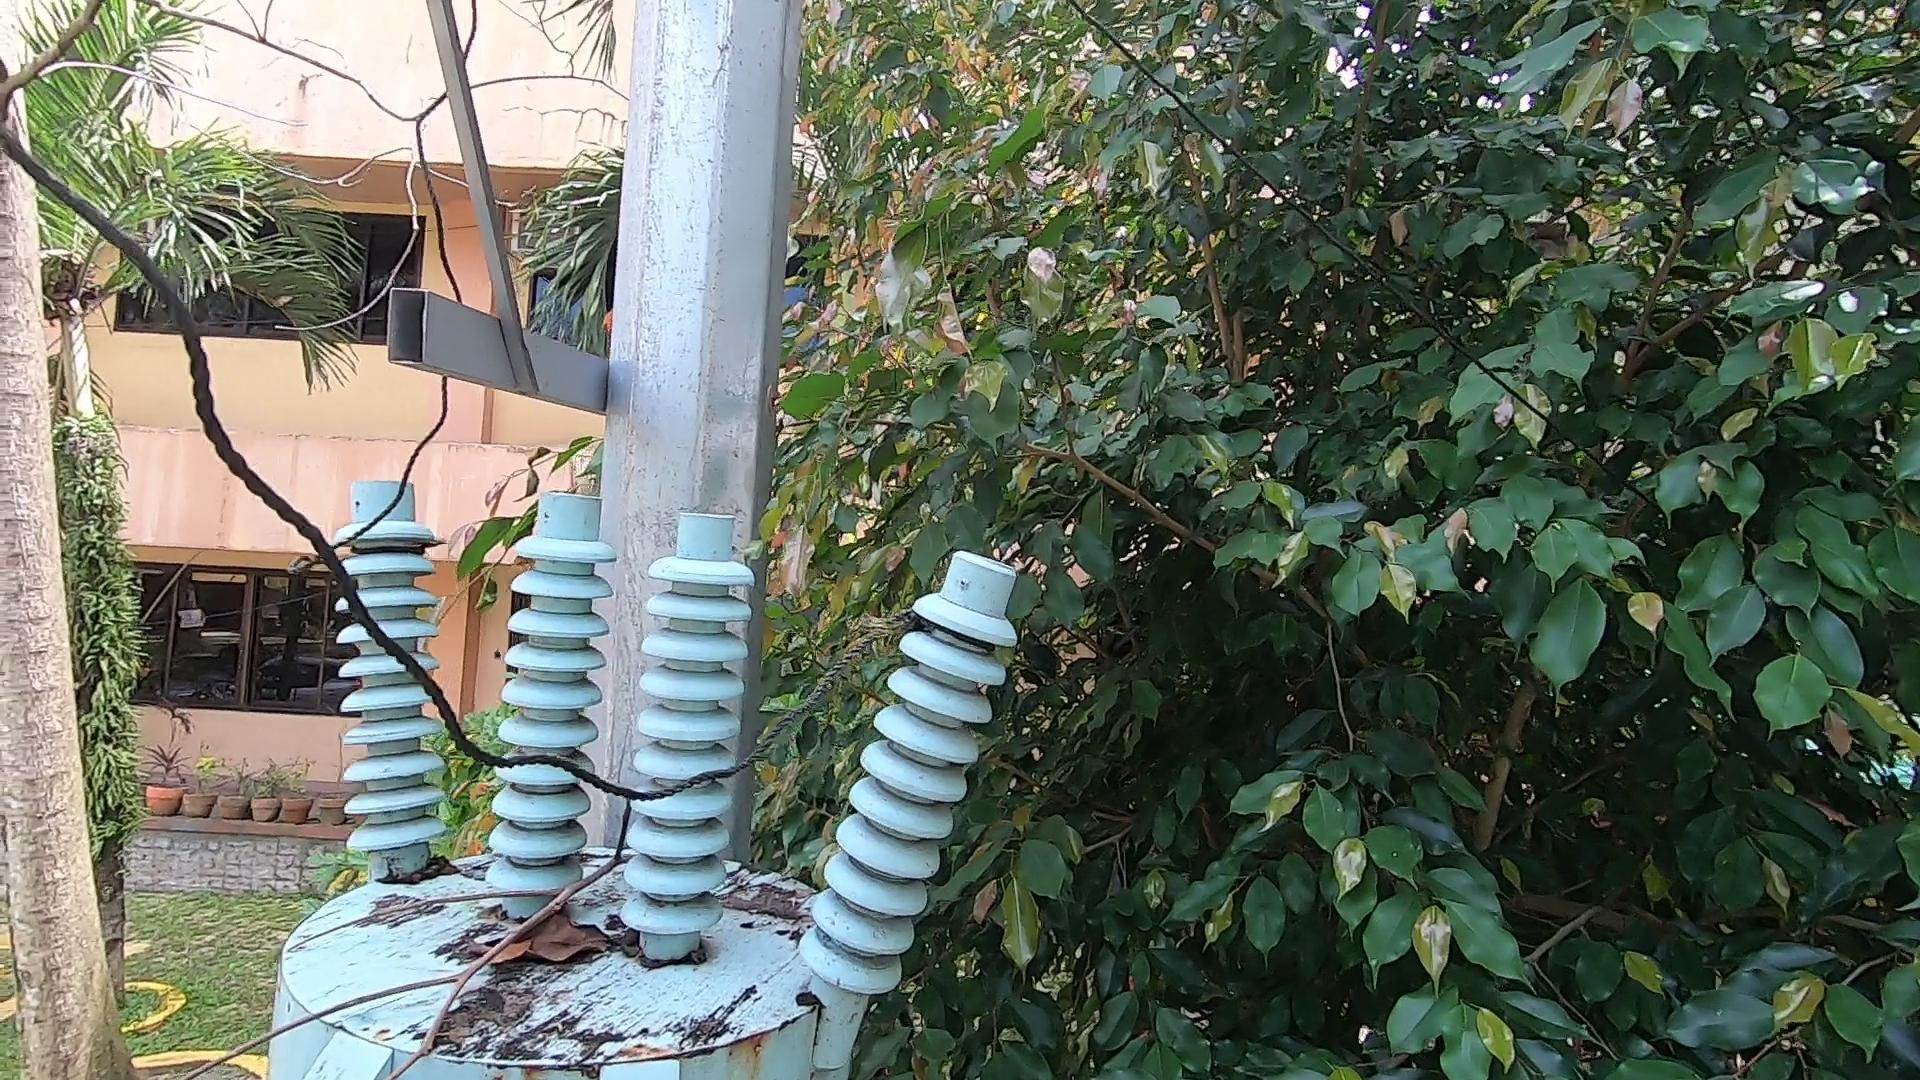leaf: (456, 899, 651, 989), (705, 860, 818, 930), (360, 839, 479, 887)
tree branch: (133, 810, 626, 1080)
